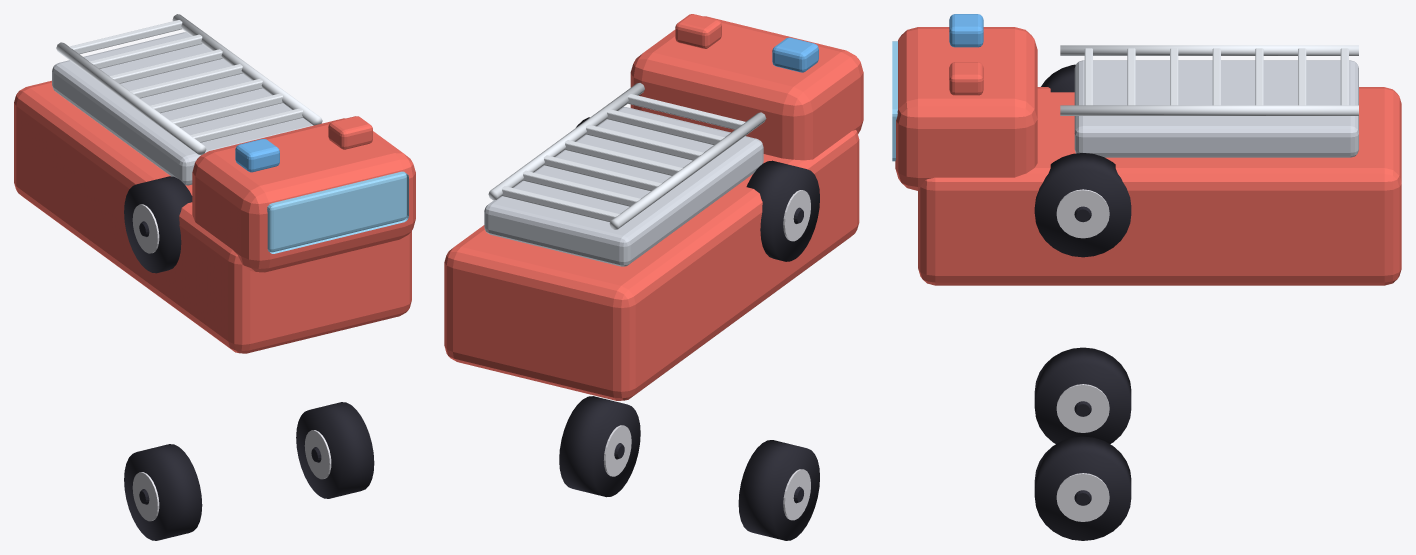
The model's file is Car_FireTruck.fbx.
3 renders of one model, left to right at view 1: azimuth 30°, elevation 25°; view 2: azimuth 150°, elevation 25°; view 3: azimuth 270°, elevation 25°, orthographic. The views are drawn at different scales.
Parts seen in each view (by area): view 1: Car_FireTruck, Wheel_FR, Wheel_FL, Wheel_RL; view 2: Car_FireTruck, Wheel_FR, Wheel_FL, Wheel_RL; view 3: Car_FireTruck, Wheel_FR, Wheel_RR, Wheel_FL, Wheel_RL.
Boxes of the visible parts, box(x1,y1,x2,y2) form: Car_FireTruck: box(14, 14, 415, 353); Wheel_FR: box(296, 402, 374, 498); Wheel_FL: box(124, 444, 202, 540); Wheel_RL: box(124, 176, 192, 273); Car_FireTruck: box(444, 14, 863, 400); Wheel_FR: box(559, 396, 640, 497); Wheel_FL: box(738, 440, 819, 540); Wheel_RL: box(746, 160, 819, 261); Car_FireTruck: box(892, 14, 1401, 285); Wheel_FR: box(1034, 436, 1131, 540); Wheel_RR: box(1034, 153, 1131, 257); Wheel_FL: box(1034, 347, 1131, 443); Wheel_RL: box(1041, 64, 1075, 92).
Size of the model in its own units: 0.9164 by 1.72 by 1.79.
